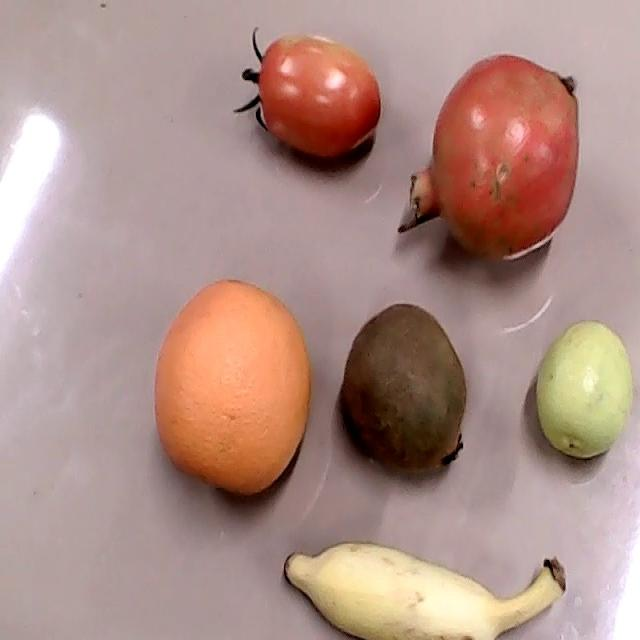kiwi: (342, 301, 467, 472)
lemon: (534, 321, 633, 459)
orange: (153, 281, 310, 494)
pomegranate: (398, 54, 578, 260)
tomato: (231, 26, 382, 158)
